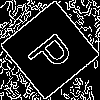P: (25, 25, 82, 79)
